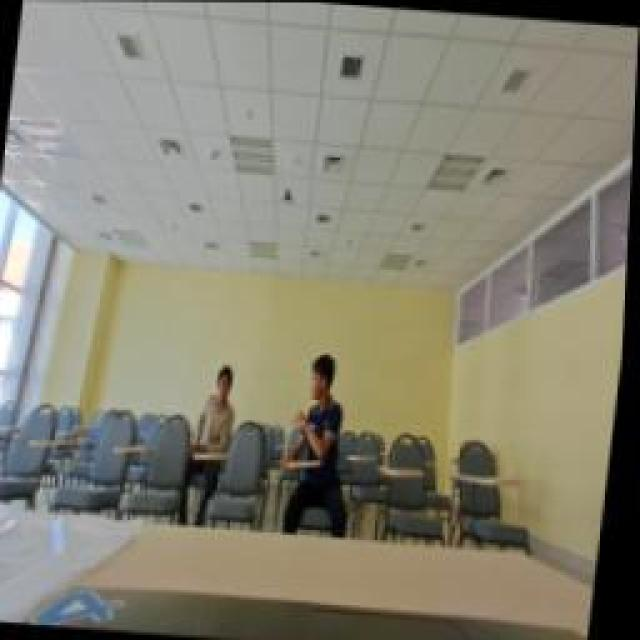study: (198, 355, 240, 450)
